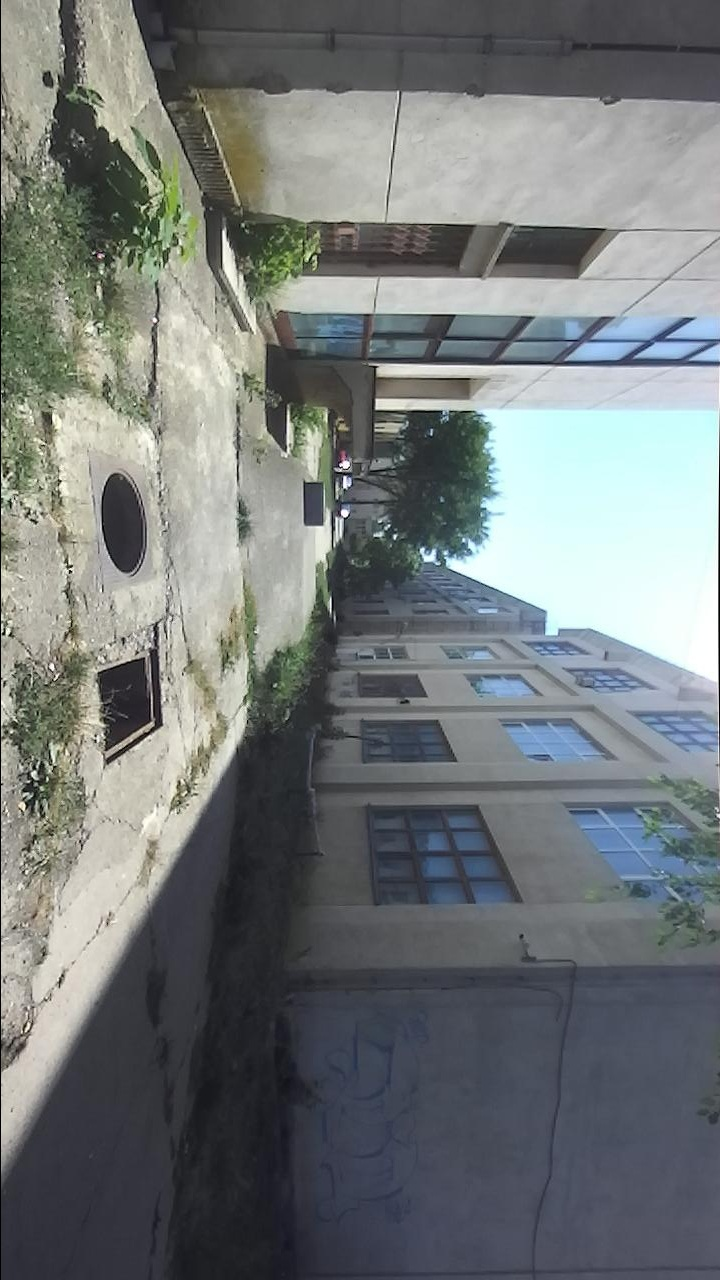drain: (91, 645, 167, 770), (98, 463, 151, 582)
